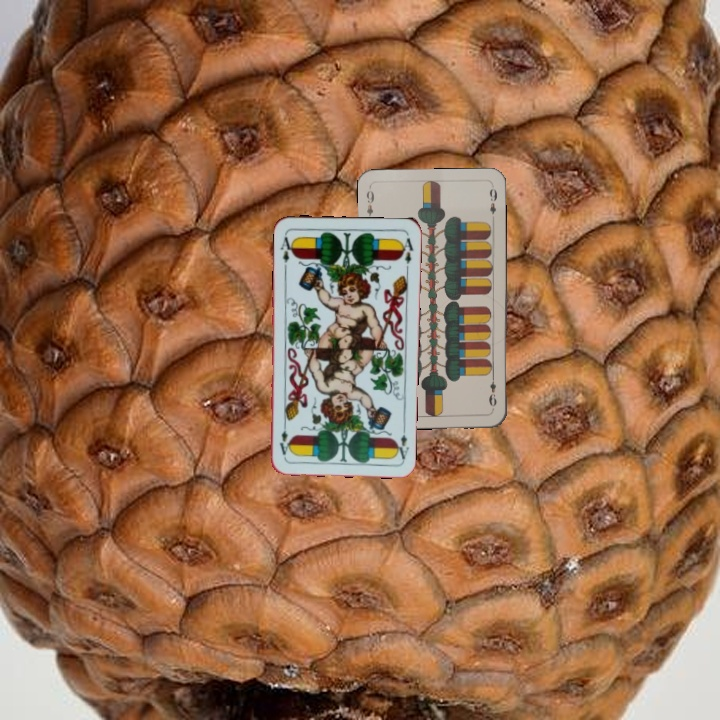E9: (362, 186, 376, 225), (485, 371, 499, 409)
EA: (276, 230, 296, 270), (392, 422, 412, 461)
